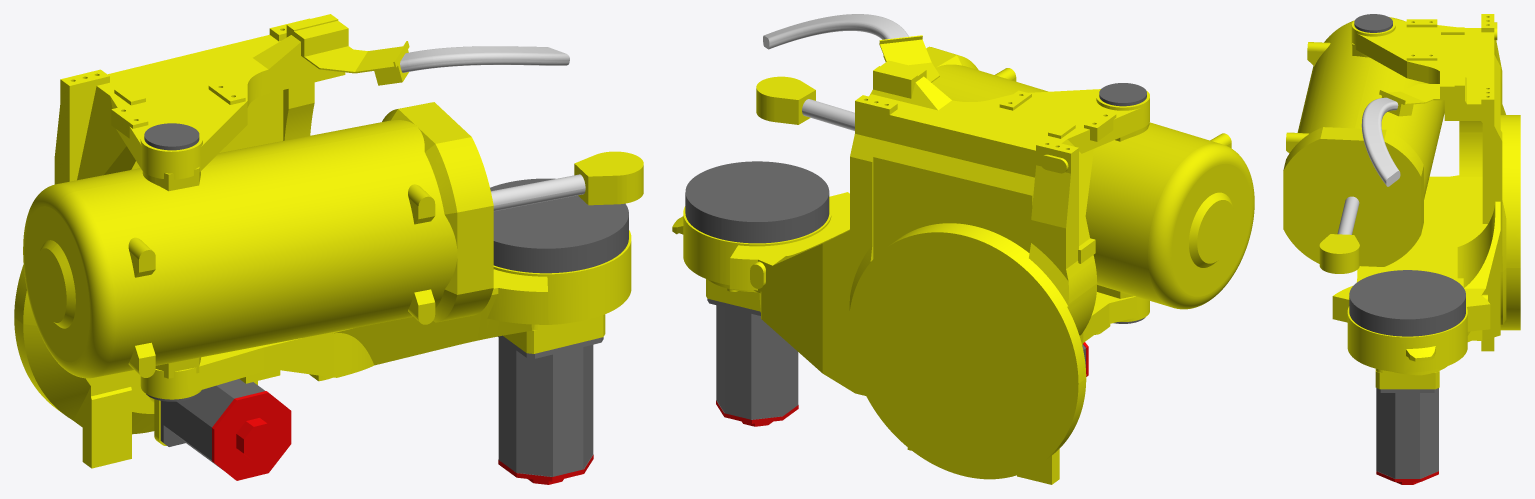
The picture shows the model from 3 angles, left to right: view 1: azimuth 30°, elevation 25°; view 2: azimuth 150°, elevation 25°; view 3: azimuth 270°, elevation 25°; orthographic projection. The views are drawn at different scales.
Visible parts, largest first — view 1: Mesh_0; view 2: Mesh_0; view 3: Mesh_0.
Boxes of the visible parts, left/top/right/bottom form: Mesh_0: left=14, top=14, right=643, bottom=484; Mesh_0: left=672, top=14, right=1254, bottom=484; Mesh_0: left=1283, top=14, right=1520, bottom=484.
Bounding box in the file's own units: 1.36 × 1.03 × 0.6617.
